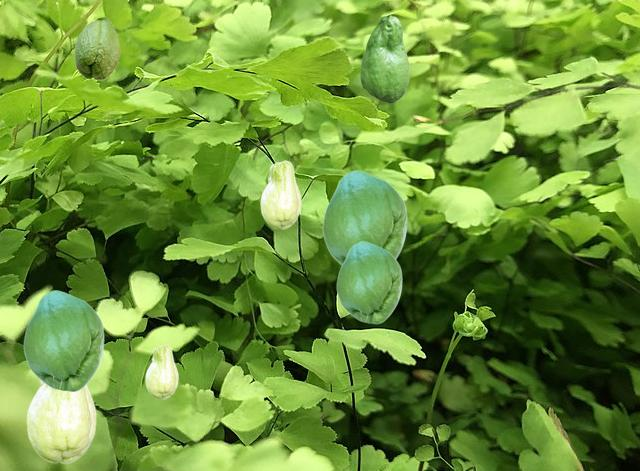sayote: (23, 290, 103, 391), (322, 170, 406, 264), (26, 380, 95, 463), (336, 241, 401, 323), (360, 15, 408, 102), (74, 16, 119, 79), (260, 160, 300, 228), (145, 344, 177, 398)
